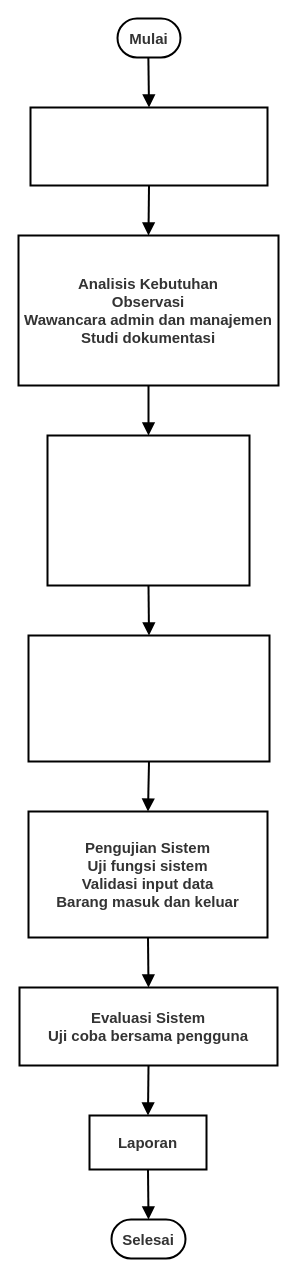
This 296x1276 diagram has some shape labels left out. Here are the shapes that lost their labels. From the top down, the box of each, then its label:
(29, 106, 268, 186): Mencari Referensi Jurnal Penelitian Terkait
(46, 434, 250, 586): Perancangan Sistem Flowchart Use Case ERD Desain Antarmuka
(27, 634, 270, 762): Implementasi Sistem Website berbasis PHP Framework CodeIgniter 4 Database MySQL
